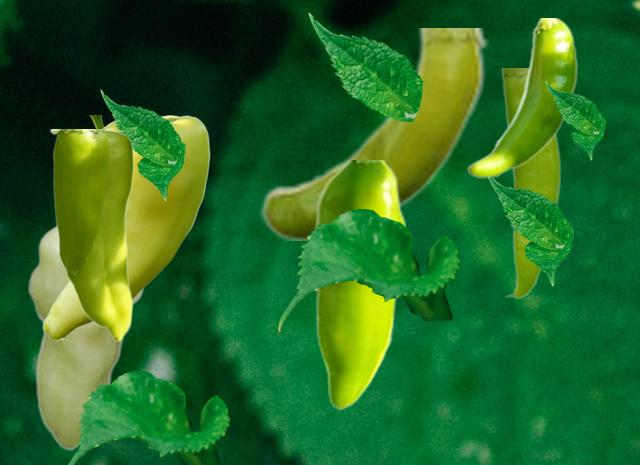green_chili: (259, 28, 487, 239), (42, 115, 209, 340), (25, 224, 144, 449), (314, 160, 404, 409), (466, 18, 577, 178), (49, 129, 132, 340), (500, 68, 559, 298)
